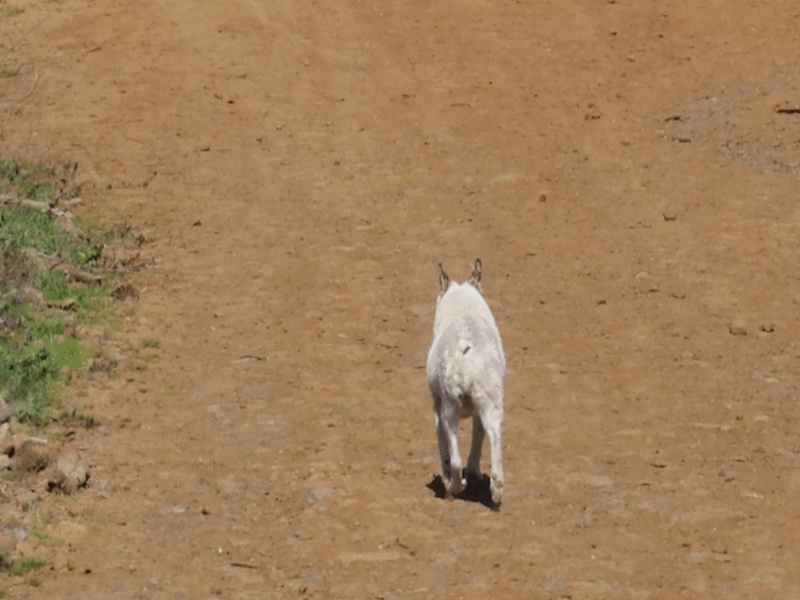dog: (424, 258, 511, 507)
